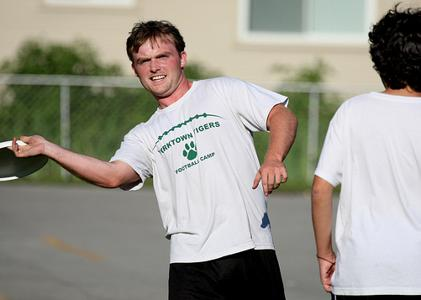person: (7, 21, 299, 299)
